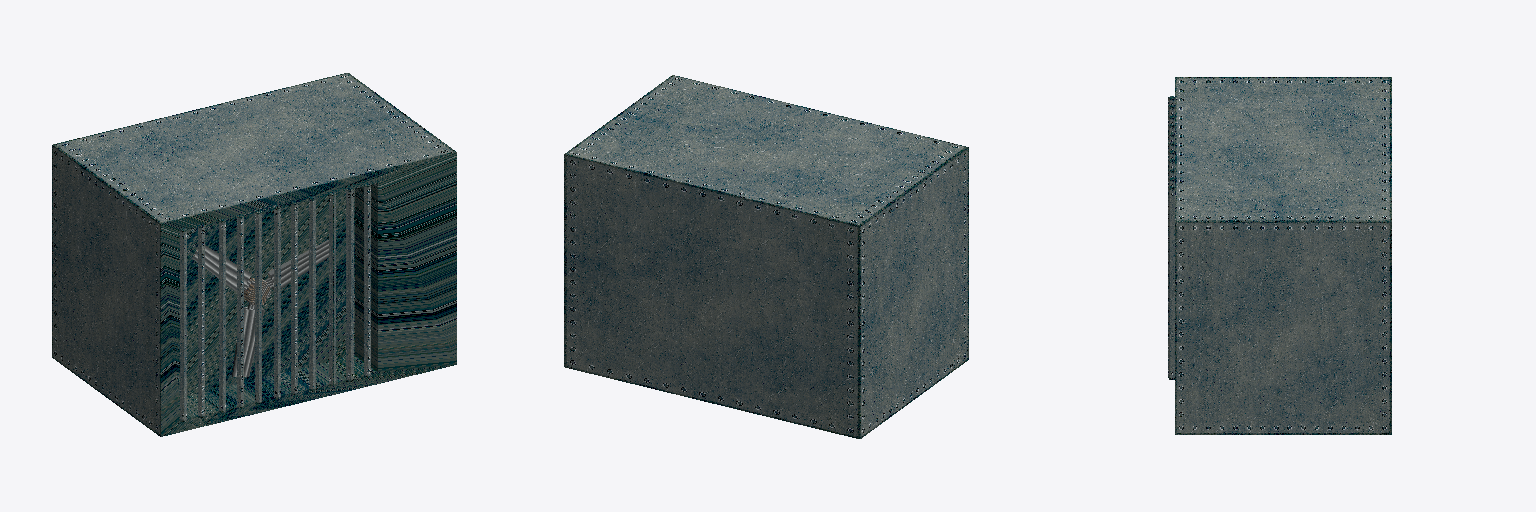
The picture shows the model from 3 angles: view 1: azimuth 30°, elevation 25°; view 2: azimuth 150°, elevation 25°; view 3: azimuth 270°, elevation 25°; orthographic projection.
Parts seen in each view (by area): view 1: Box001, Cylinder001, Cylinder003, Cylinder002, Cylinder004, Cylinder008, Cylinder009, Cylinder005, Cylinder006, Cylinder007, Cylinder011, Cylinder012 (+1 smaller); view 2: Box001; view 3: Box001, Cylinder002.
Boxes of the visible parts, box(x1,y1,x2,y2) form: Box001: box(52, 73, 456, 436); Cylinder001: box(192, 240, 328, 376); Cylinder003: box(346, 188, 353, 381); Cylinder002: box(364, 183, 370, 377); Cylinder004: box(329, 192, 335, 385); Cylinder008: box(255, 210, 261, 403); Cylinder009: box(237, 214, 243, 408); Cylinder005: box(309, 197, 315, 390); Cylinder006: box(291, 201, 297, 394); Cylinder007: box(274, 205, 280, 399); Cylinder011: box(198, 224, 204, 417); Cylinder012: box(180, 228, 186, 421); Box001: box(564, 75, 968, 438); Box001: box(1175, 77, 1391, 434); Cylinder002: box(1168, 186, 1174, 379).
Bounding box in the file's own units: 45.28 × 31.18 × 29.58.
3 materials, 3 textured.